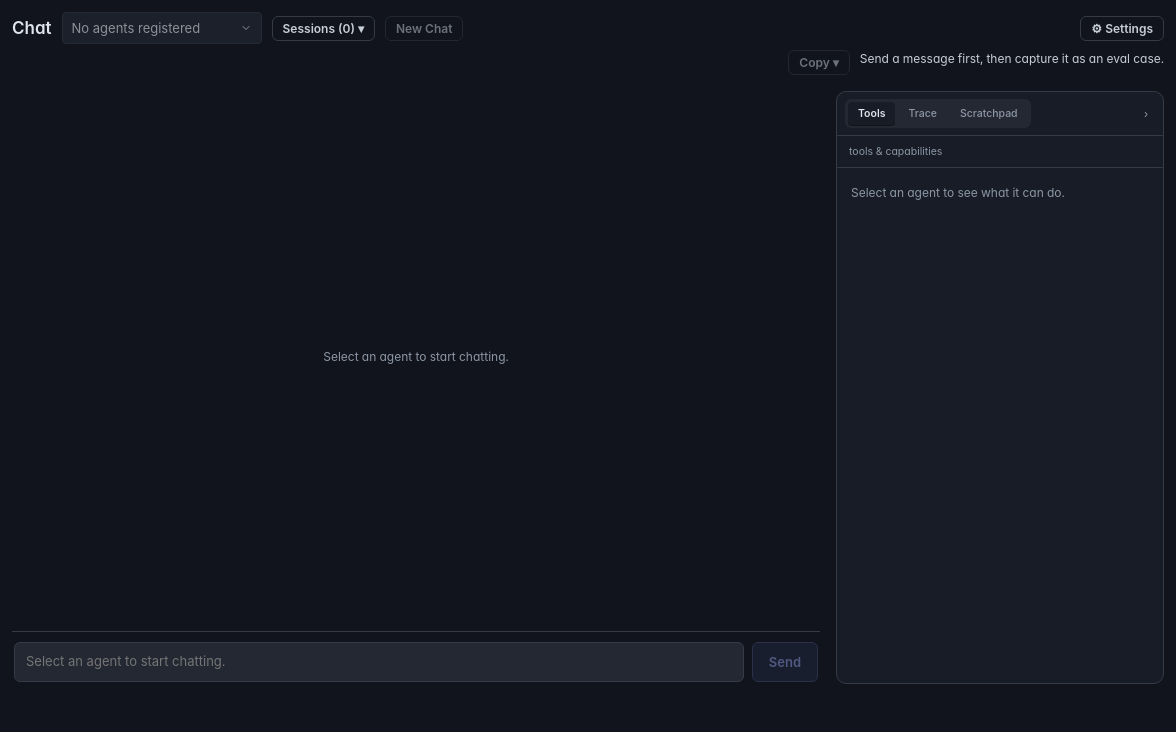
ChatPage Scratchpad tab (#226) › offers Tools | Trace | Scratchpad; picking Scratchpad renders the teaching rail
Click the tab "Scratchpad". click: (989, 114)
box: x1=950 y1=102 x2=1028 y2=125
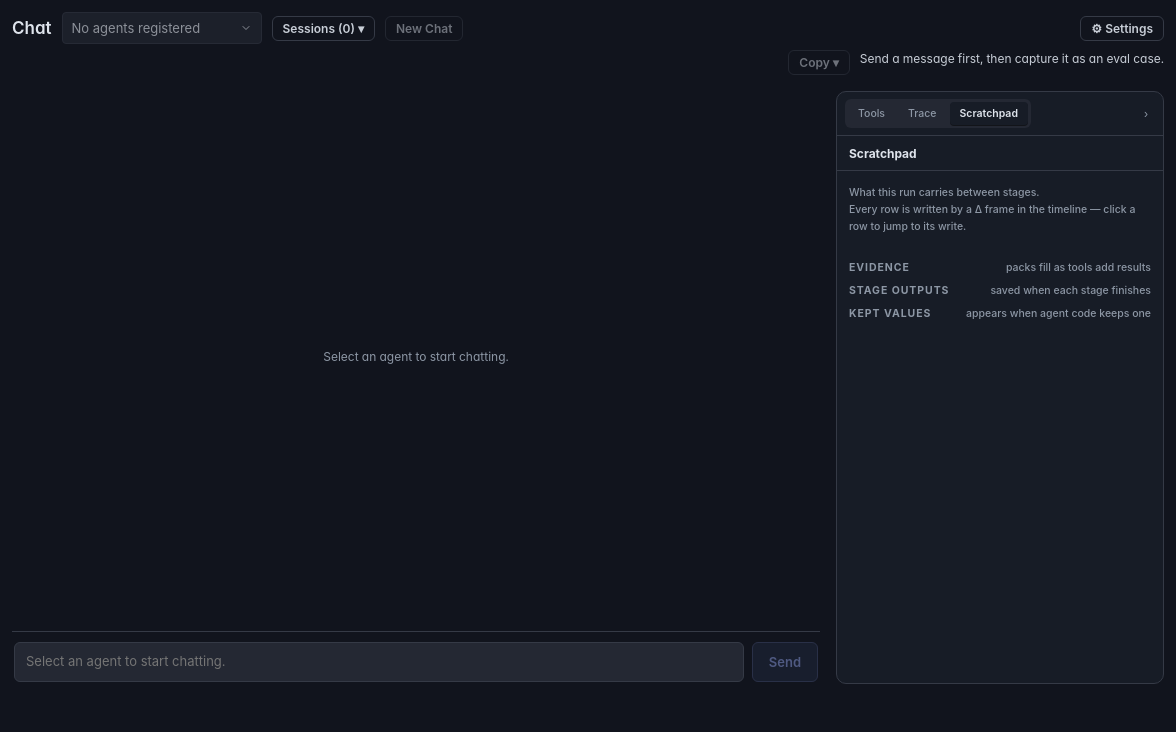
Result: the element that starts with "Scratchpad" is shown at x1=837 y1=136 x2=1163 y2=320
Result: the text "Scratchpad" is shown at x1=849 y1=146 x2=917 y2=161
Result: the element with class "rail-teach" shows "What this run carries between stages." at x1=849 y1=186 x2=1040 y2=199
